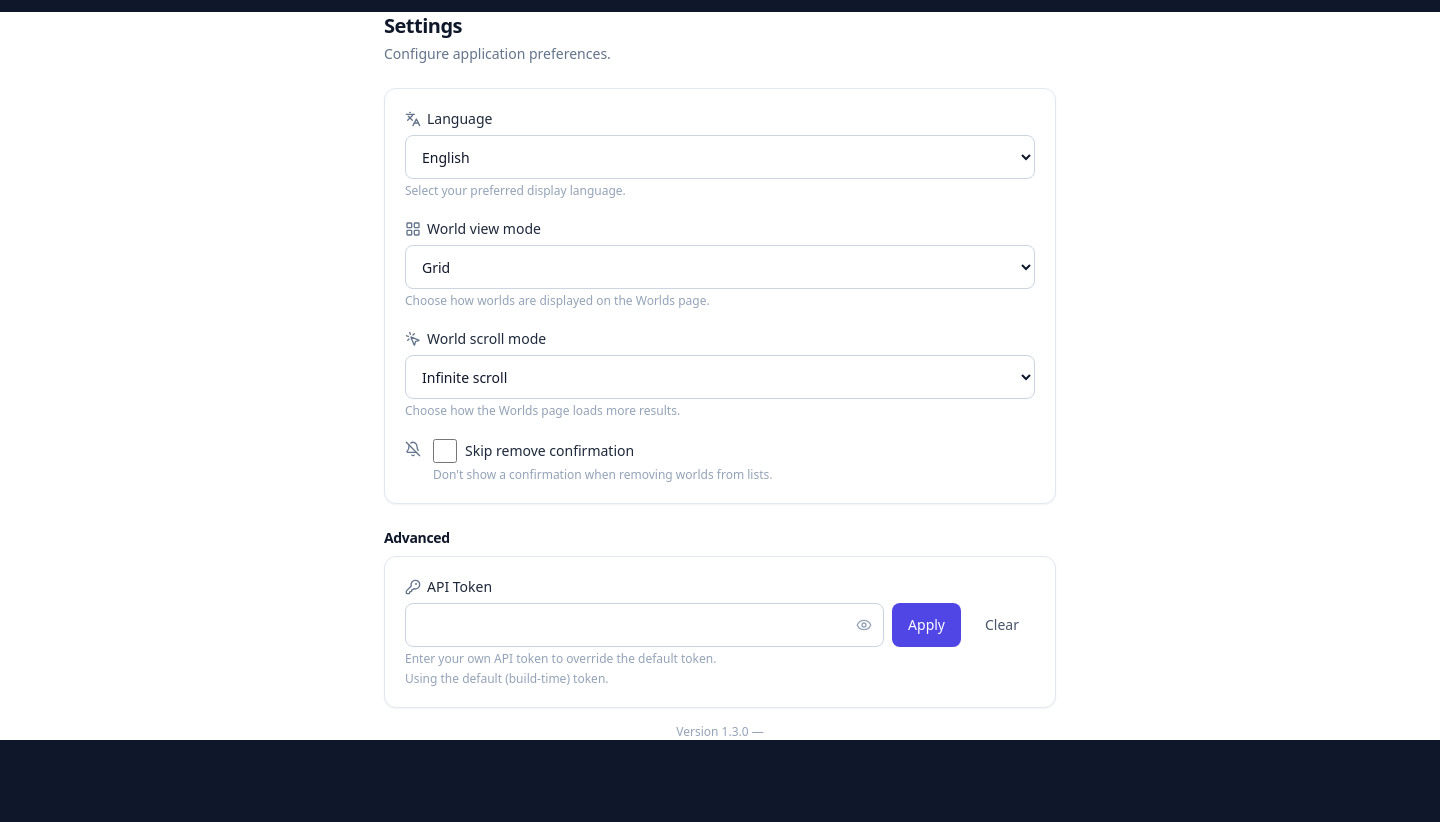
Test: SettingsPage invalid token › shows "Invalid token." after Apply when the token is rejected, without retrying
The image size is (1440, 822).
In the password field labelled "API Token": (645, 625) [405, 603, 884, 647], type "garbage-token"
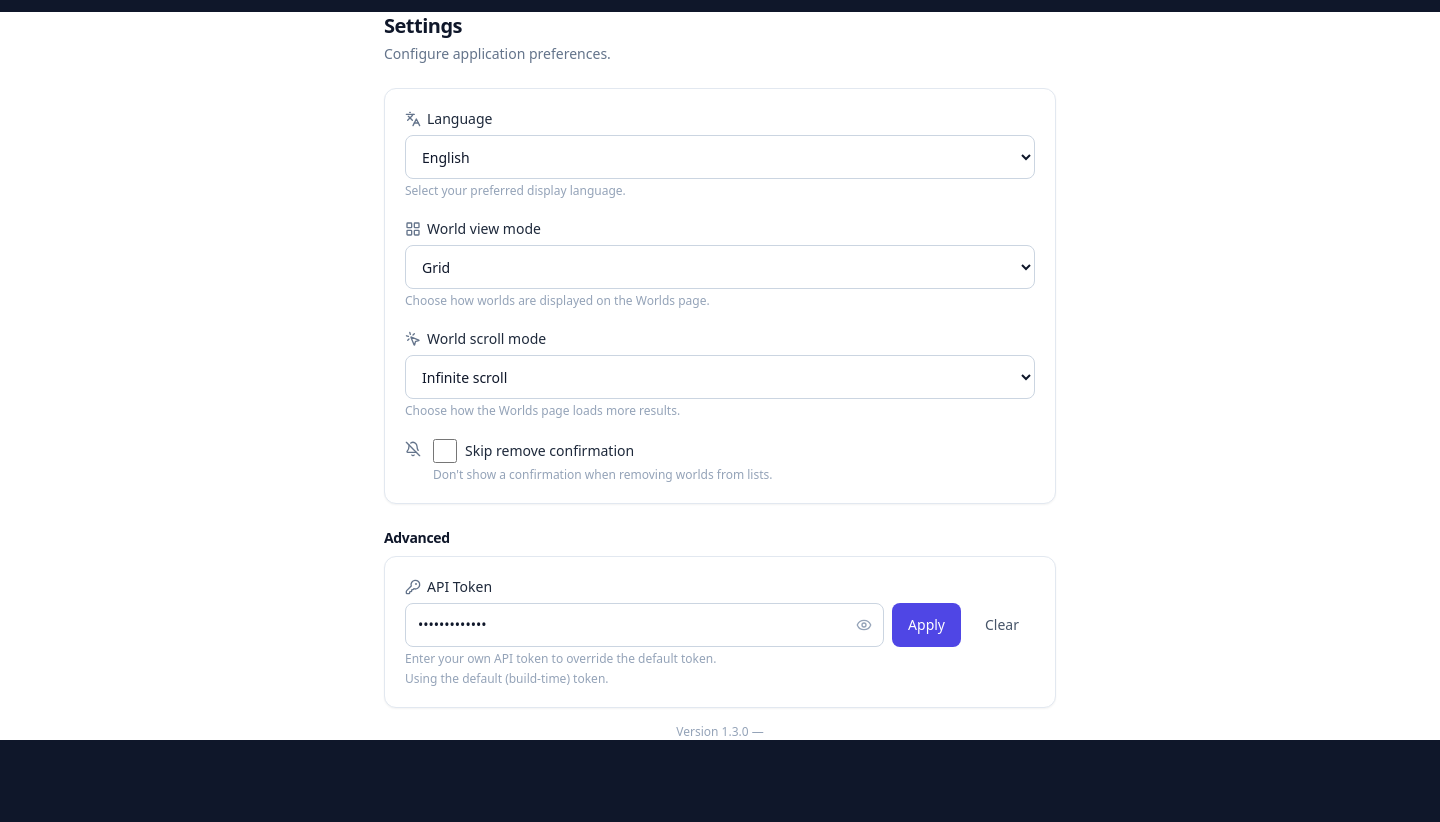
Click the button "Apply": (927, 625) [892, 603, 961, 647]
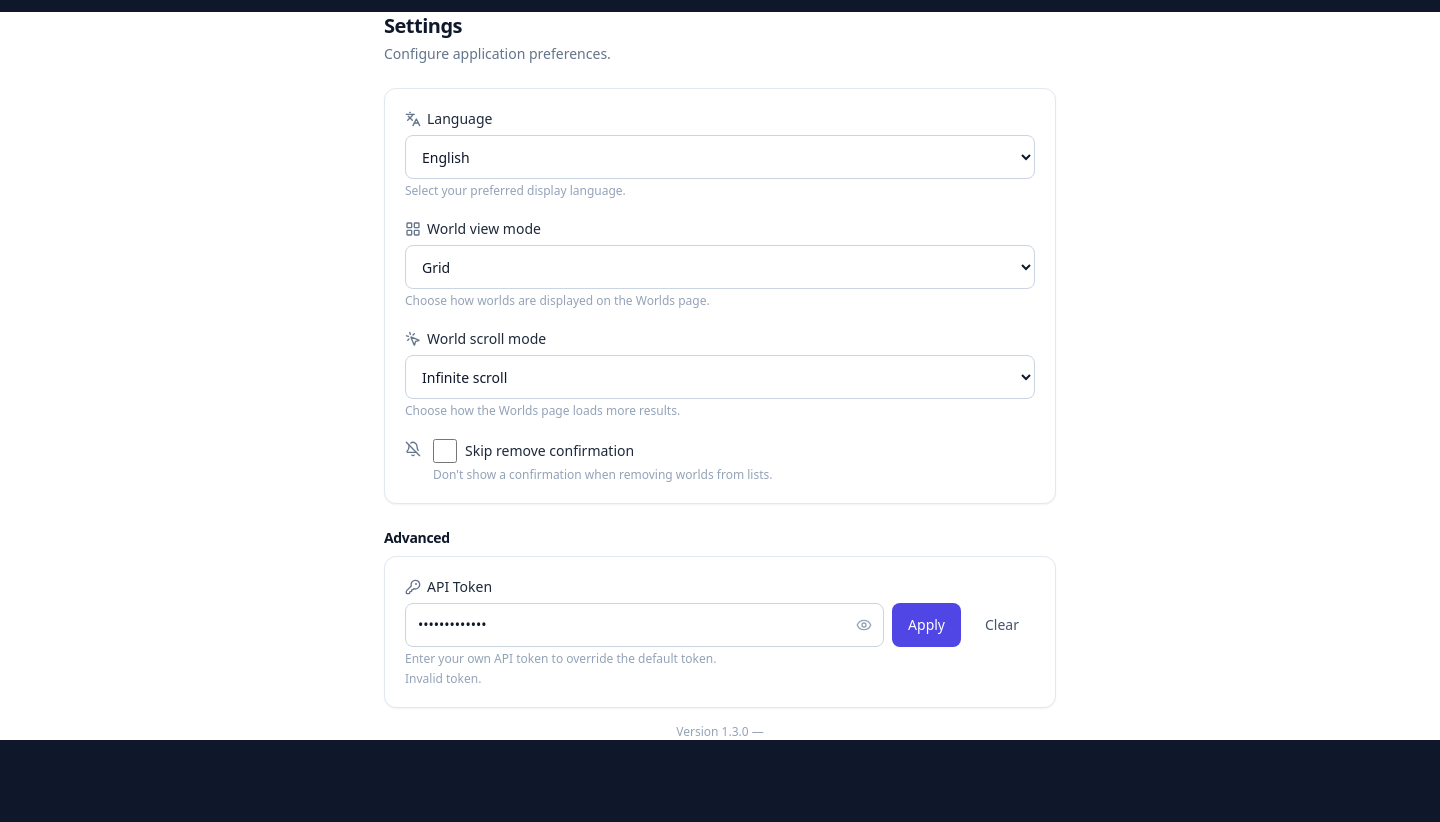
Check: the text "Invalid token." is shown, box [405, 670, 481, 687]
